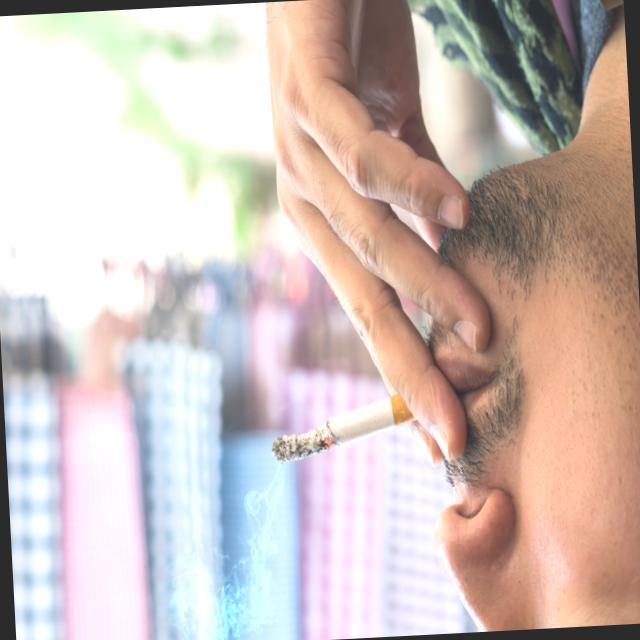cigarette: (266, 379, 428, 473)
